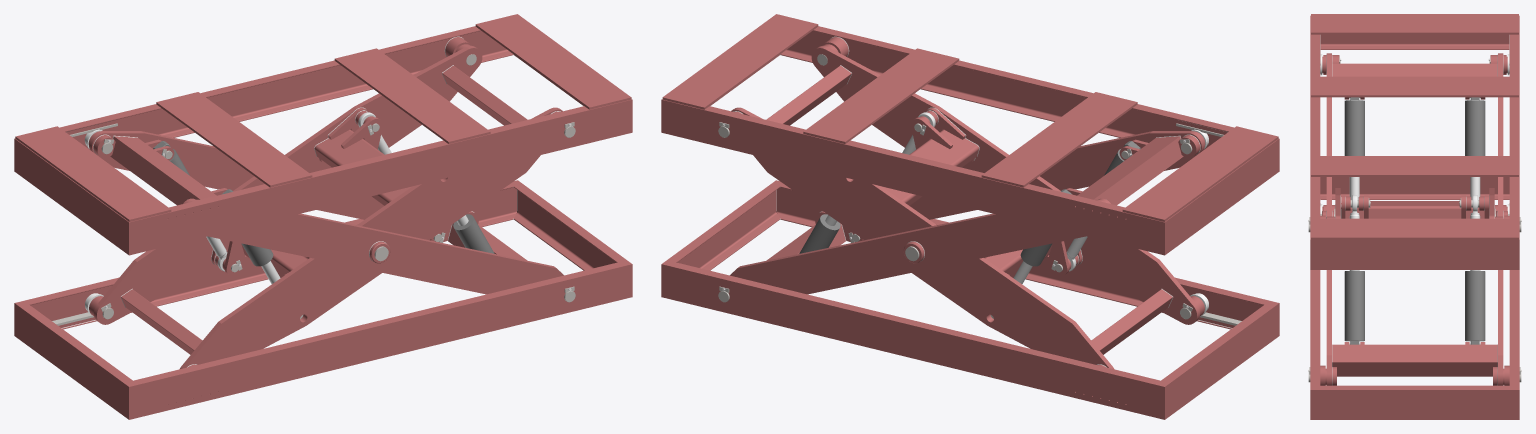
File: scissor_lift.glb
3 renders of one model, left to right at view 1: azimuth 30°, elevation 25°; view 2: azimuth 150°, elevation 25°; view 3: azimuth 270°, elevation 25°, orthographic. The views are drawn at different scales.
Parts seen in each view (by area): view 1: Bastidor Superior_Predeterminado_Como mecanizada_.STEP-1, Bastidor Inferior_Predeterminado_Como mecanizada_.STEP-1, Brazo B_Predeterminado_Como mecanizada_.STEP-1, Brazo A_Predeterminado_Como mecanizada_.STEP-1, Cilindro hidraulico_Predeterminado_Como mecanizada_.STEP-2; view 2: Bastidor Superior_Predeterminado_Como mecanizada_.STEP-1, Bastidor Inferior_Predeterminado_Como mecanizada_.STEP-1, Brazo B_Predeterminado_Como mecanizada_.STEP-1, Brazo A_Predeterminado_Como mecanizada_.STEP-1, Cilindro hidraulico_Predeterminado_Como mecanizada_.STEP-1; view 3: Bastidor Superior_Predeterminado_Como mecanizada_.STEP-1, Bastidor Inferior_Predeterminado_Como mecanizada_.STEP-1, Brazo A_Predeterminado_Como mecanizada_.STEP-1, Brazo B_Predeterminado_Como mecanizada_.STEP-1, Cilindro hidraulico_Predeterminado_Como mecanizada_.STEP-1, Cilindro hidraulico_Predeterminado_Como mecanizada_.STEP-2, Cilindro hidraulico_Predeterminado_Como mecanizada_.STEP-3, Cilindro hidraulico_Predeterminado_Como mecanizada_.STEP-4, Piston hidraulico_Predeterminado.STEP-3, Piston hidraulico_Predeterminado.STEP-4.
Part boxes in pixels (x1,y1,x2,y2): Bastidor Superior_Predeterminado_Como mecanizada_.STEP-1: (14, 14, 632, 255); Bastidor Inferior_Predeterminado_Como mecanizada_.STEP-1: (14, 180, 632, 419); Brazo B_Predeterminado_Como mecanizada_.STEP-1: (89, 44, 562, 368); Brazo A_Predeterminado_Como mecanizada_.STEP-1: (88, 131, 563, 294); Cilindro hidraulico_Predeterminado_Como mecanizada_.STEP-2: (453, 214, 494, 253); Bastidor Superior_Predeterminado_Como mecanizada_.STEP-1: (661, 14, 1279, 255); Bastidor Inferior_Predeterminado_Como mecanizada_.STEP-1: (661, 180, 1279, 419); Brazo B_Predeterminado_Como mecanizada_.STEP-1: (731, 44, 1204, 368); Brazo A_Predeterminado_Como mecanizada_.STEP-1: (730, 131, 1205, 294); Cilindro hidraulico_Predeterminado_Como mecanizada_.STEP-1: (799, 214, 840, 253); Bastidor Superior_Predeterminado_Como mecanizada_.STEP-1: (1310, 14, 1519, 269); Bastidor Inferior_Predeterminado_Como mecanizada_.STEP-1: (1310, 177, 1519, 419); Brazo A_Predeterminado_Como mecanizada_.STEP-1: (1322, 53, 1507, 385); Brazo B_Predeterminado_Como mecanizada_.STEP-1: (1323, 188, 1506, 218); Cilindro hidraulico_Predeterminado_Como mecanizada_.STEP-1: (1465, 270, 1485, 344); Cilindro hidraulico_Predeterminado_Como mecanizada_.STEP-2: (1344, 270, 1364, 344); Cilindro hidraulico_Predeterminado_Como mecanizada_.STEP-3: (1465, 97, 1485, 155); Cilindro hidraulico_Predeterminado_Como mecanizada_.STEP-4: (1344, 97, 1364, 155); Piston hidraulico_Predeterminado.STEP-3: (1470, 177, 1480, 199); Piston hidraulico_Predeterminado.STEP-4: (1349, 177, 1359, 199).
Size of the model in its own units: 4.79 by 1.82 by 1.93.
